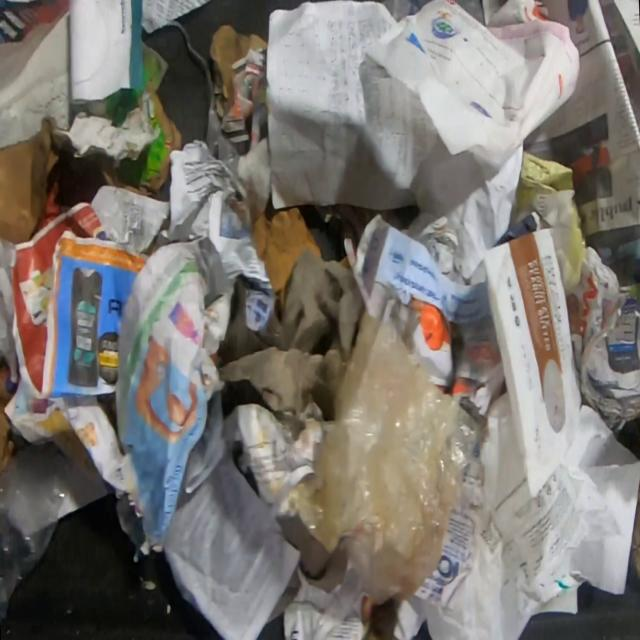cardboard: (482, 225, 583, 500), (53, 81, 183, 198), (0, 114, 60, 244), (249, 204, 324, 292), (208, 22, 268, 108)
rigid_plastic: (0, 441, 72, 624)
soft_plastic: (273, 309, 487, 609), (159, 18, 239, 177)
